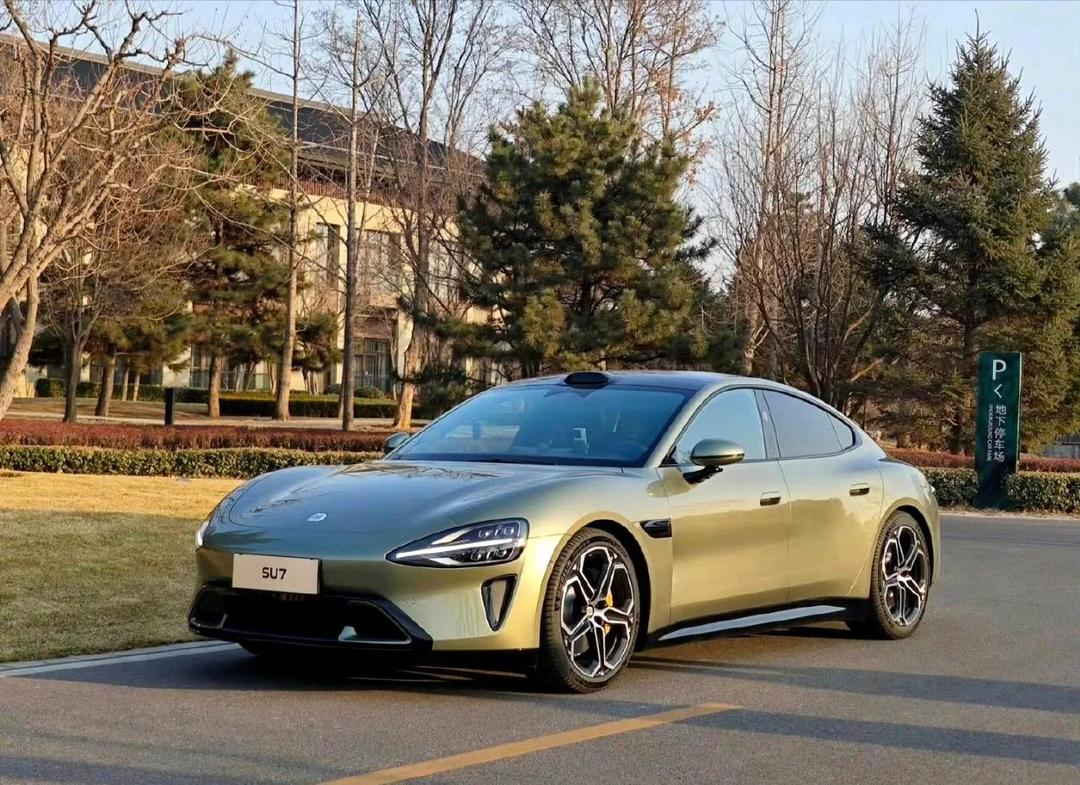su7: (201, 340, 947, 677)
